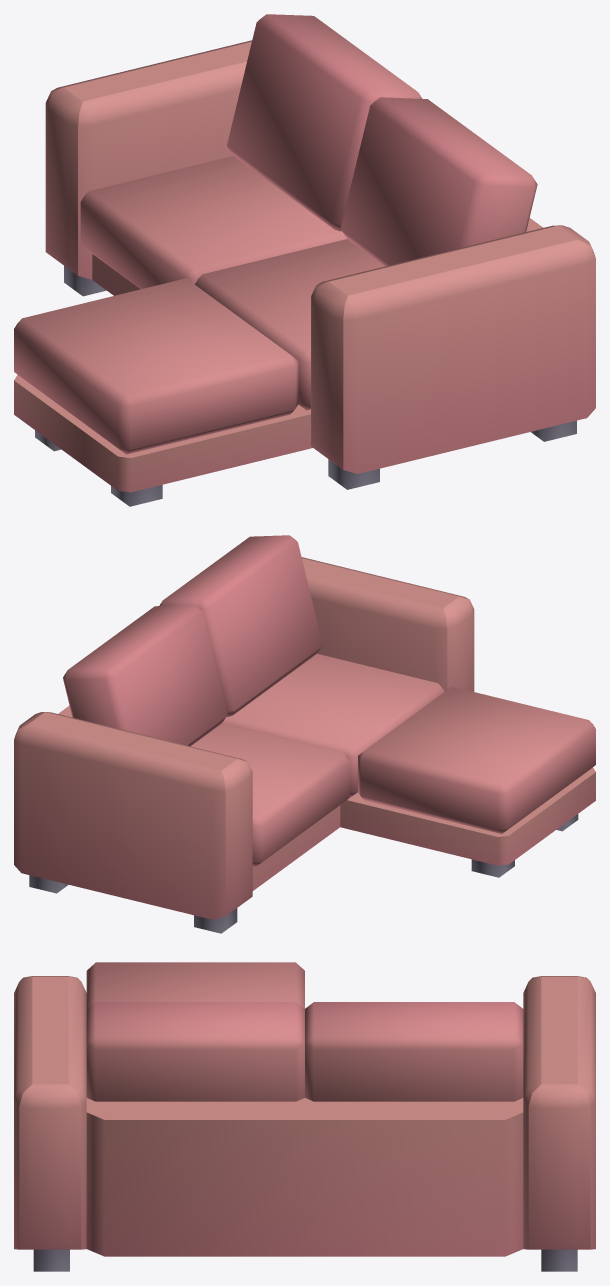
File: amsterdam-sofa-lounge.glb
The picture shows the model from 3 angles, top to bottom: view 1: azimuth 30°, elevation 25°; view 2: azimuth 150°, elevation 25°; view 3: azimuth 270°, elevation 25°; orthographic projection. The views are drawn at different scales.
Parts seen in each view (by area): view 1: amsterdam-sofa-lounge; view 2: amsterdam-sofa-lounge; view 3: amsterdam-sofa-lounge.
Boxes of the visible parts, x1,y1,x2,y2 form: amsterdam-sofa-lounge: [14, 14, 595, 506]; amsterdam-sofa-lounge: [14, 535, 595, 933]; amsterdam-sofa-lounge: [14, 962, 595, 1271].
Size of the model in its own units: 1.35 by 0.7323 by 1.6.
